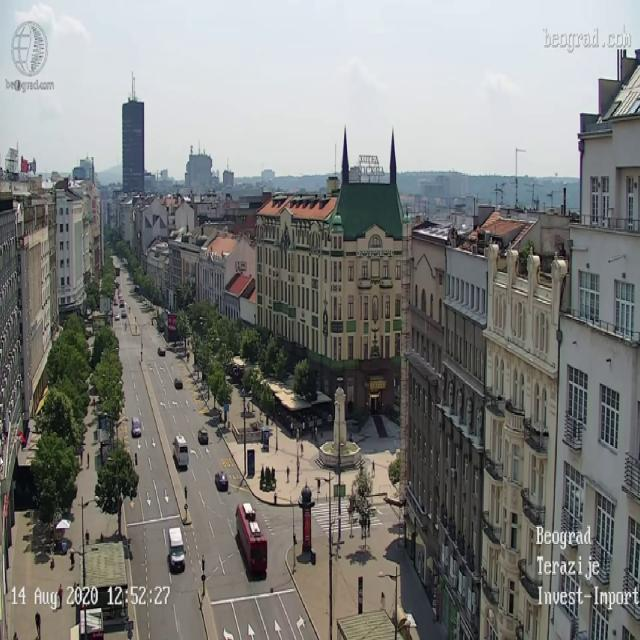bus: (235, 501, 268, 575), (168, 526, 185, 572)
car: (173, 435, 189, 469), (214, 471, 228, 491), (198, 428, 208, 444), (133, 416, 140, 434), (174, 377, 182, 391), (158, 344, 164, 356)
